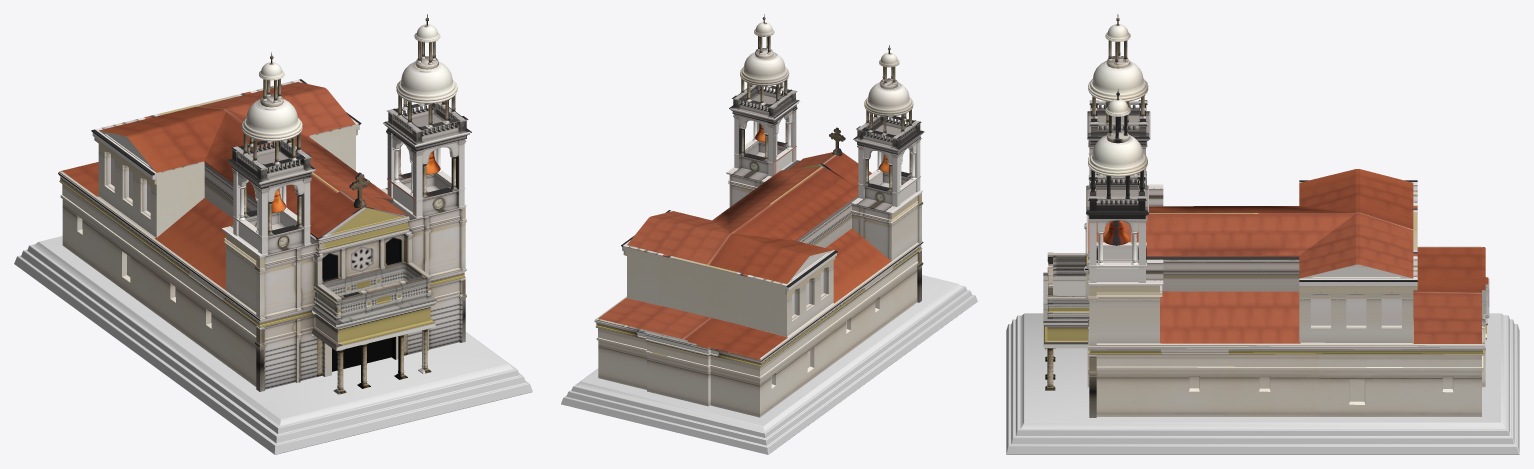
File: Basilica_LowPoly.fbx
3 views of the same model, side by side, from view 1: azimuth 30°, elevation 25°; view 2: azimuth 150°, elevation 25°; view 3: azimuth 270°, elevation 25° (orthographic). The views are drawn at different scales.
Visible parts, largest first — view 1: Towers.002, Towers, Kamikase.001, Towers.001; view 2: Towers.002, Towers, Kamikase.001, Towers.001; view 3: Towers.002, Kamikase.001, Towers, Towers.001.
Part boxes in pixels (box(x1,y1,x2,y2)): Towers.002: box(58, 79, 466, 327); Towers: box(60, 184, 466, 394); Kamikase.001: box(14, 236, 532, 454); Towers.001: box(227, 14, 471, 254); Towers.002: box(594, 127, 923, 367); Towers: box(596, 249, 923, 417); Kamikase.001: box(561, 275, 977, 454); Towers.001: box(729, 14, 924, 206); Towers.002: box(1084, 169, 1489, 355); Kamikase.001: box(1006, 313, 1519, 454); Towers: box(1043, 252, 1486, 417); Towers.001: box(1086, 14, 1150, 282).
Bounding box in the file's own units: 174 × 225 × 305.
